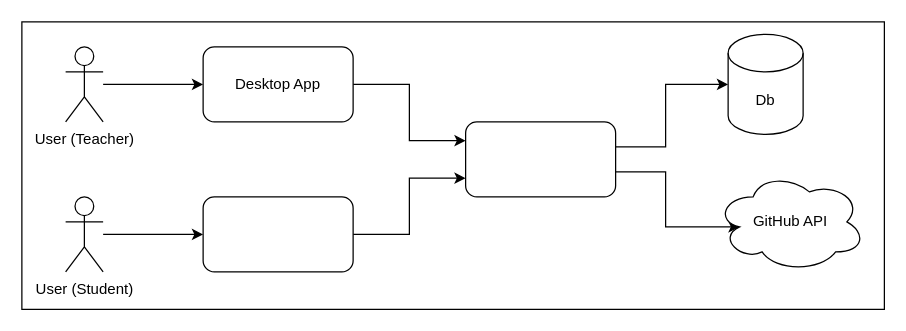
Image size: 906x331. Some labels were removed from this diagram. Each missing label, with the centre of its shape:
"Web App" belongs at (277,234).
"Web Server" belongs at (540,159).
